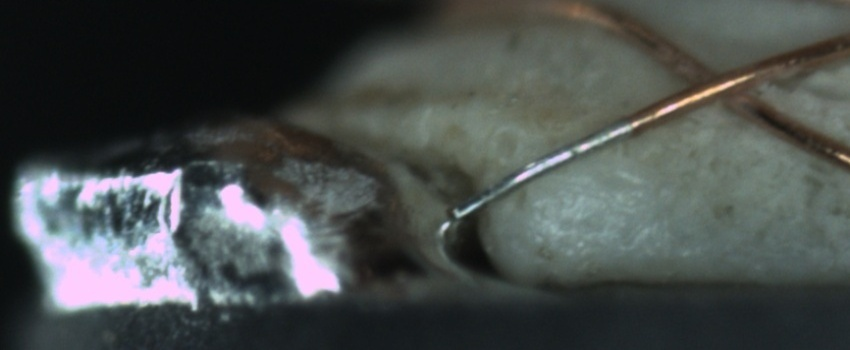CL: (657, 43, 796, 125)
TS: (449, 113, 630, 223)
